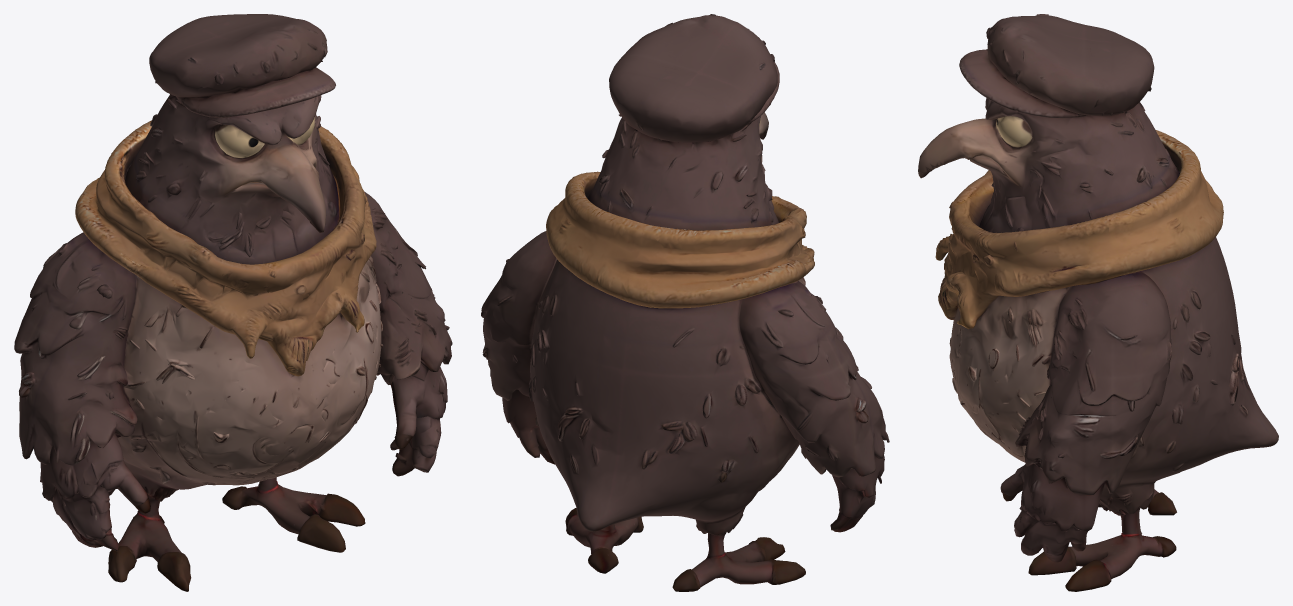
File: old_man_coo.glb
The picture shows the model from 3 angles, left to right: view 1: azimuth 30°, elevation 25°; view 2: azimuth 150°, elevation 25°; view 3: azimuth 270°, elevation 25°; orthographic projection. The views are drawn at different scales.
Visible parts, largest first — view 1: tripo_node_78cf5c0b-419f-4d04-837a-4c770a2d1cf8; view 2: tripo_node_78cf5c0b-419f-4d04-837a-4c770a2d1cf8; view 3: tripo_node_78cf5c0b-419f-4d04-837a-4c770a2d1cf8.
Boxes of the visible parts, x1,y1,x2,y2 form: tripo_node_78cf5c0b-419f-4d04-837a-4c770a2d1cf8: (14, 14, 452, 591); tripo_node_78cf5c0b-419f-4d04-837a-4c770a2d1cf8: (481, 14, 889, 591); tripo_node_78cf5c0b-419f-4d04-837a-4c770a2d1cf8: (918, 14, 1278, 591).
Size of the model in its own units: 0.7739 by 0.9798 by 0.6217.
1 material, 1 textured.
